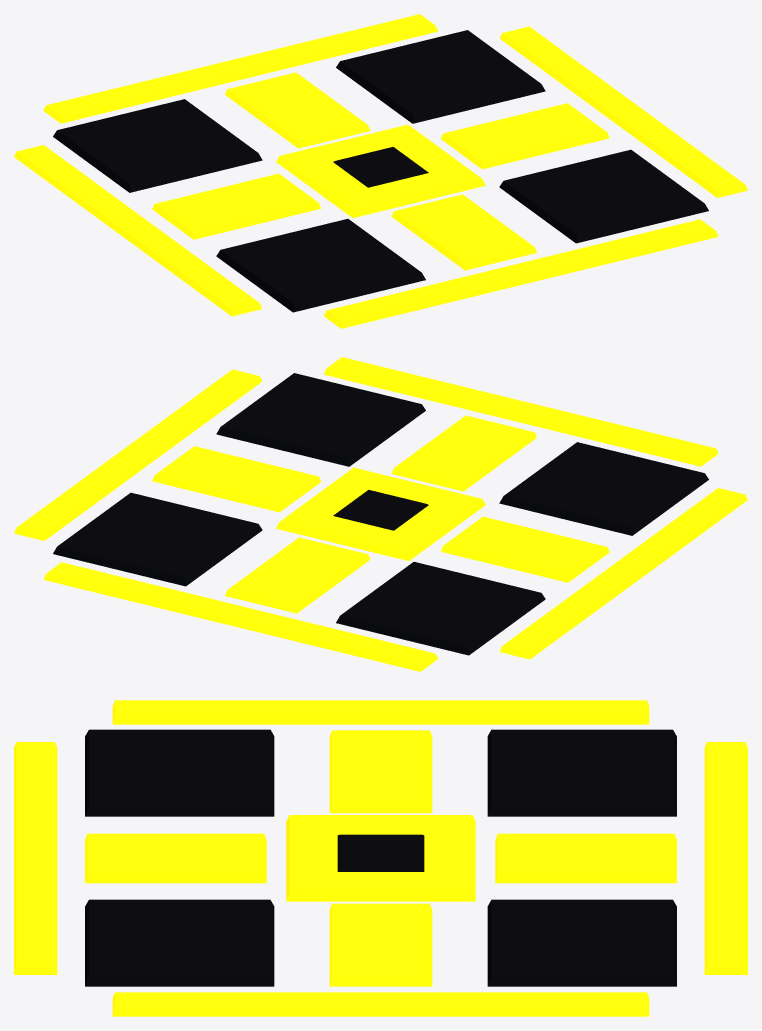
Rendered from SM_ArenaTile_Overlay_02_Warning.glb.
The picture shows the model from 3 angles, top to bottom: view 1: azimuth 30°, elevation 25°; view 2: azimuth 150°, elevation 25°; view 3: azimuth 270°, elevation 25°; orthographic projection. The views are drawn at different scales.
Parts seen in each view (by area): view 1: Part_EMI_Amber, Part_MAT_DarkNeutral; view 2: Part_EMI_Amber, Part_MAT_DarkNeutral; view 3: Part_EMI_Amber, Part_MAT_DarkNeutral.
Boxes of the visible parts, <box> form: Part_EMI_Amber: <box>14,14,747,328</box>; Part_MAT_DarkNeutral: <box>53,30,708,312</box>; Part_EMI_Amber: <box>14,357,747,671</box>; Part_MAT_DarkNeutral: <box>53,373,708,655</box>; Part_EMI_Amber: <box>14,700,747,1016</box>; Part_MAT_DarkNeutral: <box>85,729,676,986</box>.
Bounding box in the file's own units: 9.3 × 0.135 × 9.3.
Materials: 2 (2 with a texture image).
